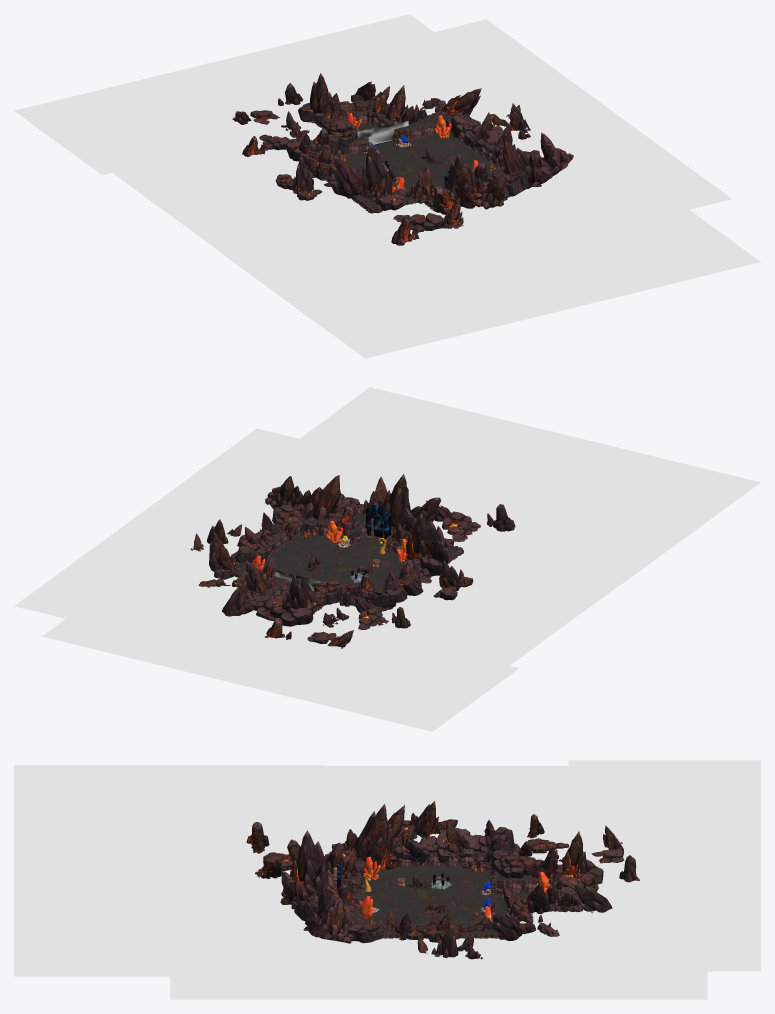
File: LevelMap_1070401.glb
The picture shows the model from 3 angles, top to bottom: view 1: azimuth 30°, elevation 25°; view 2: azimuth 150°, elevation 25°; view 3: azimuth 270°, elevation 25°; orthographic projection. The views are drawn at different scales.
Parts seen in each view (by area): view 1: EnvCavern_Detail__Lava_6__u3325, EnvCavern_Detail__Lava_1__u1773, EnvCavern_Detail__Lava_7__u1831, EnvCavern_Detail__Lava__u3092, EnvCavern_Detail__Lava_4__u3216, EnvCavern_Detail__Lava_2__u1894, LevelMap_1070401_Terrain__u3270, LevelMap_1070401_Terrain_1__u2886, EnvCavern_Detail__Lava_5__u3112, EnvCavern_Detail__Lava_3__u2948, EnvCavern_Detail__Rock___5__u2911, EnvCavern_Detail__Rock___2__u2141 (+9 smaller); view 2: EnvCavern_Detail__Lava_6__u3325, EnvCavern_Detail__Lava_1__u1773, EnvCavern_Detail__Lava_7__u1831, EnvCavern_Detail__Lava__u3092, LevelMap_1070401_Terrain__u3270, EnvCavern_Detail__Lava_2__u1894, EnvCavern_Detail__Lava_3__u2948, EnvCavern_Detail__Lava_4__u3216, EnvCavern_Detail__Rock___5__u2911, EnvCavern_Detail__Lava_5__u3112, EnvCavern_Detail__Rock___3__u2301, EnvCavern_Detail__Rock___2__u3111 (+5 smaller); view 3: EnvCavern_Detail__Lava_1__u1773, EnvCavern_Detail__Lava_6__u3325, EnvCavern_Detail__Lava__u3092, EnvCavern_Detail__Lava_7__u1831, LevelMap_1070401_Terrain__u3270, EnvCavern_Detail__Lava_4__u3216, EnvCavern_Detail__Lava_2__u1894, LevelMap_1070401_Terrain_1__u2886, EnvCavern_Detail__Rock___2__u3111, EnvCavern_Detail__Rock___2__u2141, EnvCavern_Detail__Rock___5__u2911, EnvCavern_Detail__Rock___3__u2301 (+16 smaller).
Part boxes in pixels (box(x1,y1,x2,y2)): EnvCavern_Detail__Lava_6__u3325: box(223, 160, 760, 358); EnvCavern_Detail__Lava_1__u1773: box(29, 71, 480, 319); EnvCavern_Detail__Lava_7__u1831: box(14, 14, 497, 174); EnvCavern_Detail__Lava__u3092: box(370, 19, 731, 227); EnvCavern_Detail__Lava_4__u3216: box(513, 174, 612, 230); EnvCavern_Detail__Lava_2__u1894: box(335, 57, 452, 115); LevelMap_1070401_Terrain__u3270: box(359, 145, 498, 190); LevelMap_1070401_Terrain_1__u2886: box(332, 122, 466, 171); EnvCavern_Detail__Lava_5__u3112: box(357, 202, 489, 260); EnvCavern_Detail__Lava_3__u2948: box(214, 87, 322, 140); EnvCavern_Detail__Rock___5__u2911: box(501, 141, 552, 188); EnvCavern_Detail__Rock___2__u2141: box(446, 153, 483, 208); EnvCavern_Detail__Lava_6__u3325: box(230, 387, 760, 585); EnvCavern_Detail__Lava_1__u1773: box(261, 479, 696, 725); EnvCavern_Detail__Lava_7__u1831: box(42, 573, 519, 731); EnvCavern_Detail__Lava__u3092: box(14, 428, 372, 634); LevelMap_1070401_Terrain__u3270: box(265, 533, 405, 589); EnvCavern_Detail__Lava_2__u1894: box(137, 569, 238, 633); EnvCavern_Detail__Lava_3__u2948: box(259, 602, 387, 661); EnvCavern_Detail__Lava_4__u3216: box(310, 463, 409, 504); EnvCavern_Detail__Rock___5__u2911: box(293, 475, 341, 520); EnvCavern_Detail__Lava_5__u3112: box(433, 493, 530, 555); EnvCavern_Detail__Rock___3__u2301: box(247, 593, 313, 626); EnvCavern_Detail__Rock___2__u3111: box(406, 513, 439, 560); EnvCavern_Detail__Lava_1__u1773: box(128, 766, 750, 855); EnvCavern_Detail__Lava_6__u3325: box(14, 765, 325, 976); EnvCavern_Detail__Lava__u3092: box(170, 936, 707, 999); EnvCavern_Detail__Lava_7__u1831: box(568, 760, 760, 971); LevelMap_1070401_Terrain__u3270: box(351, 865, 450, 924); EnvCavern_Detail__Lava_4__u3216: box(199, 909, 353, 942); EnvCavern_Detail__Lava_2__u1894: box(516, 909, 670, 942); LevelMap_1070401_Terrain_1__u2886: box(451, 865, 530, 924); EnvCavern_Detail__Rock___2__u3111: box(355, 804, 399, 870); EnvCavern_Detail__Rock___2__u2141: box(290, 830, 326, 895); EnvCavern_Detail__Rock___5__u2911: box(303, 869, 357, 934); EnvCavern_Detail__Rock___3__u2301: box(553, 859, 603, 900).
Size of the model in its own units: 71.42 by 12.55 by 94.29.
Materials: 33 (32 with a texture image).
